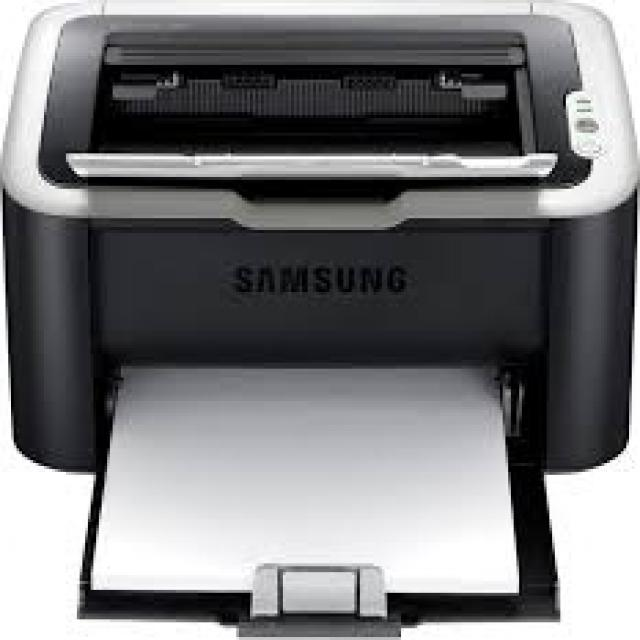printer: (0, 2, 640, 634)
